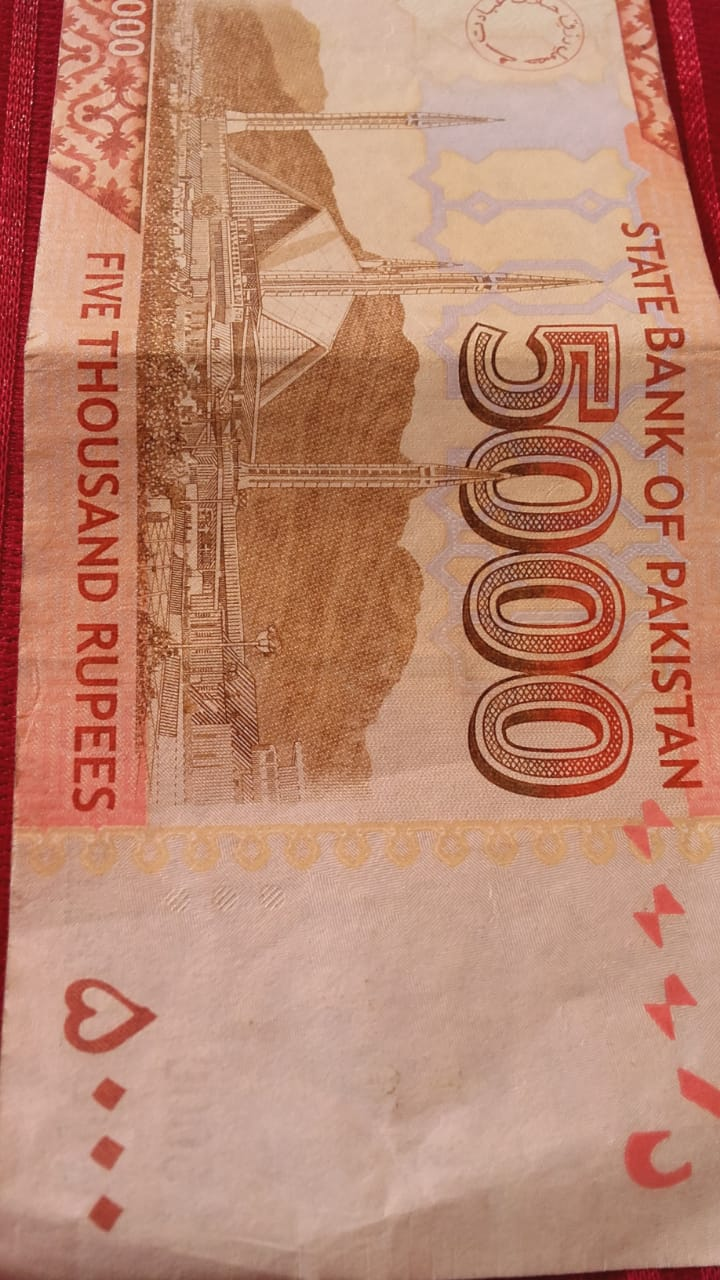5000 rupee: (30, 0, 709, 1280)
